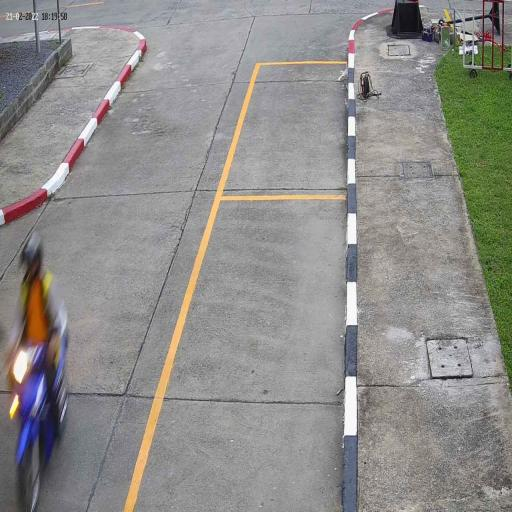motorcycle: (8, 343, 71, 512)
